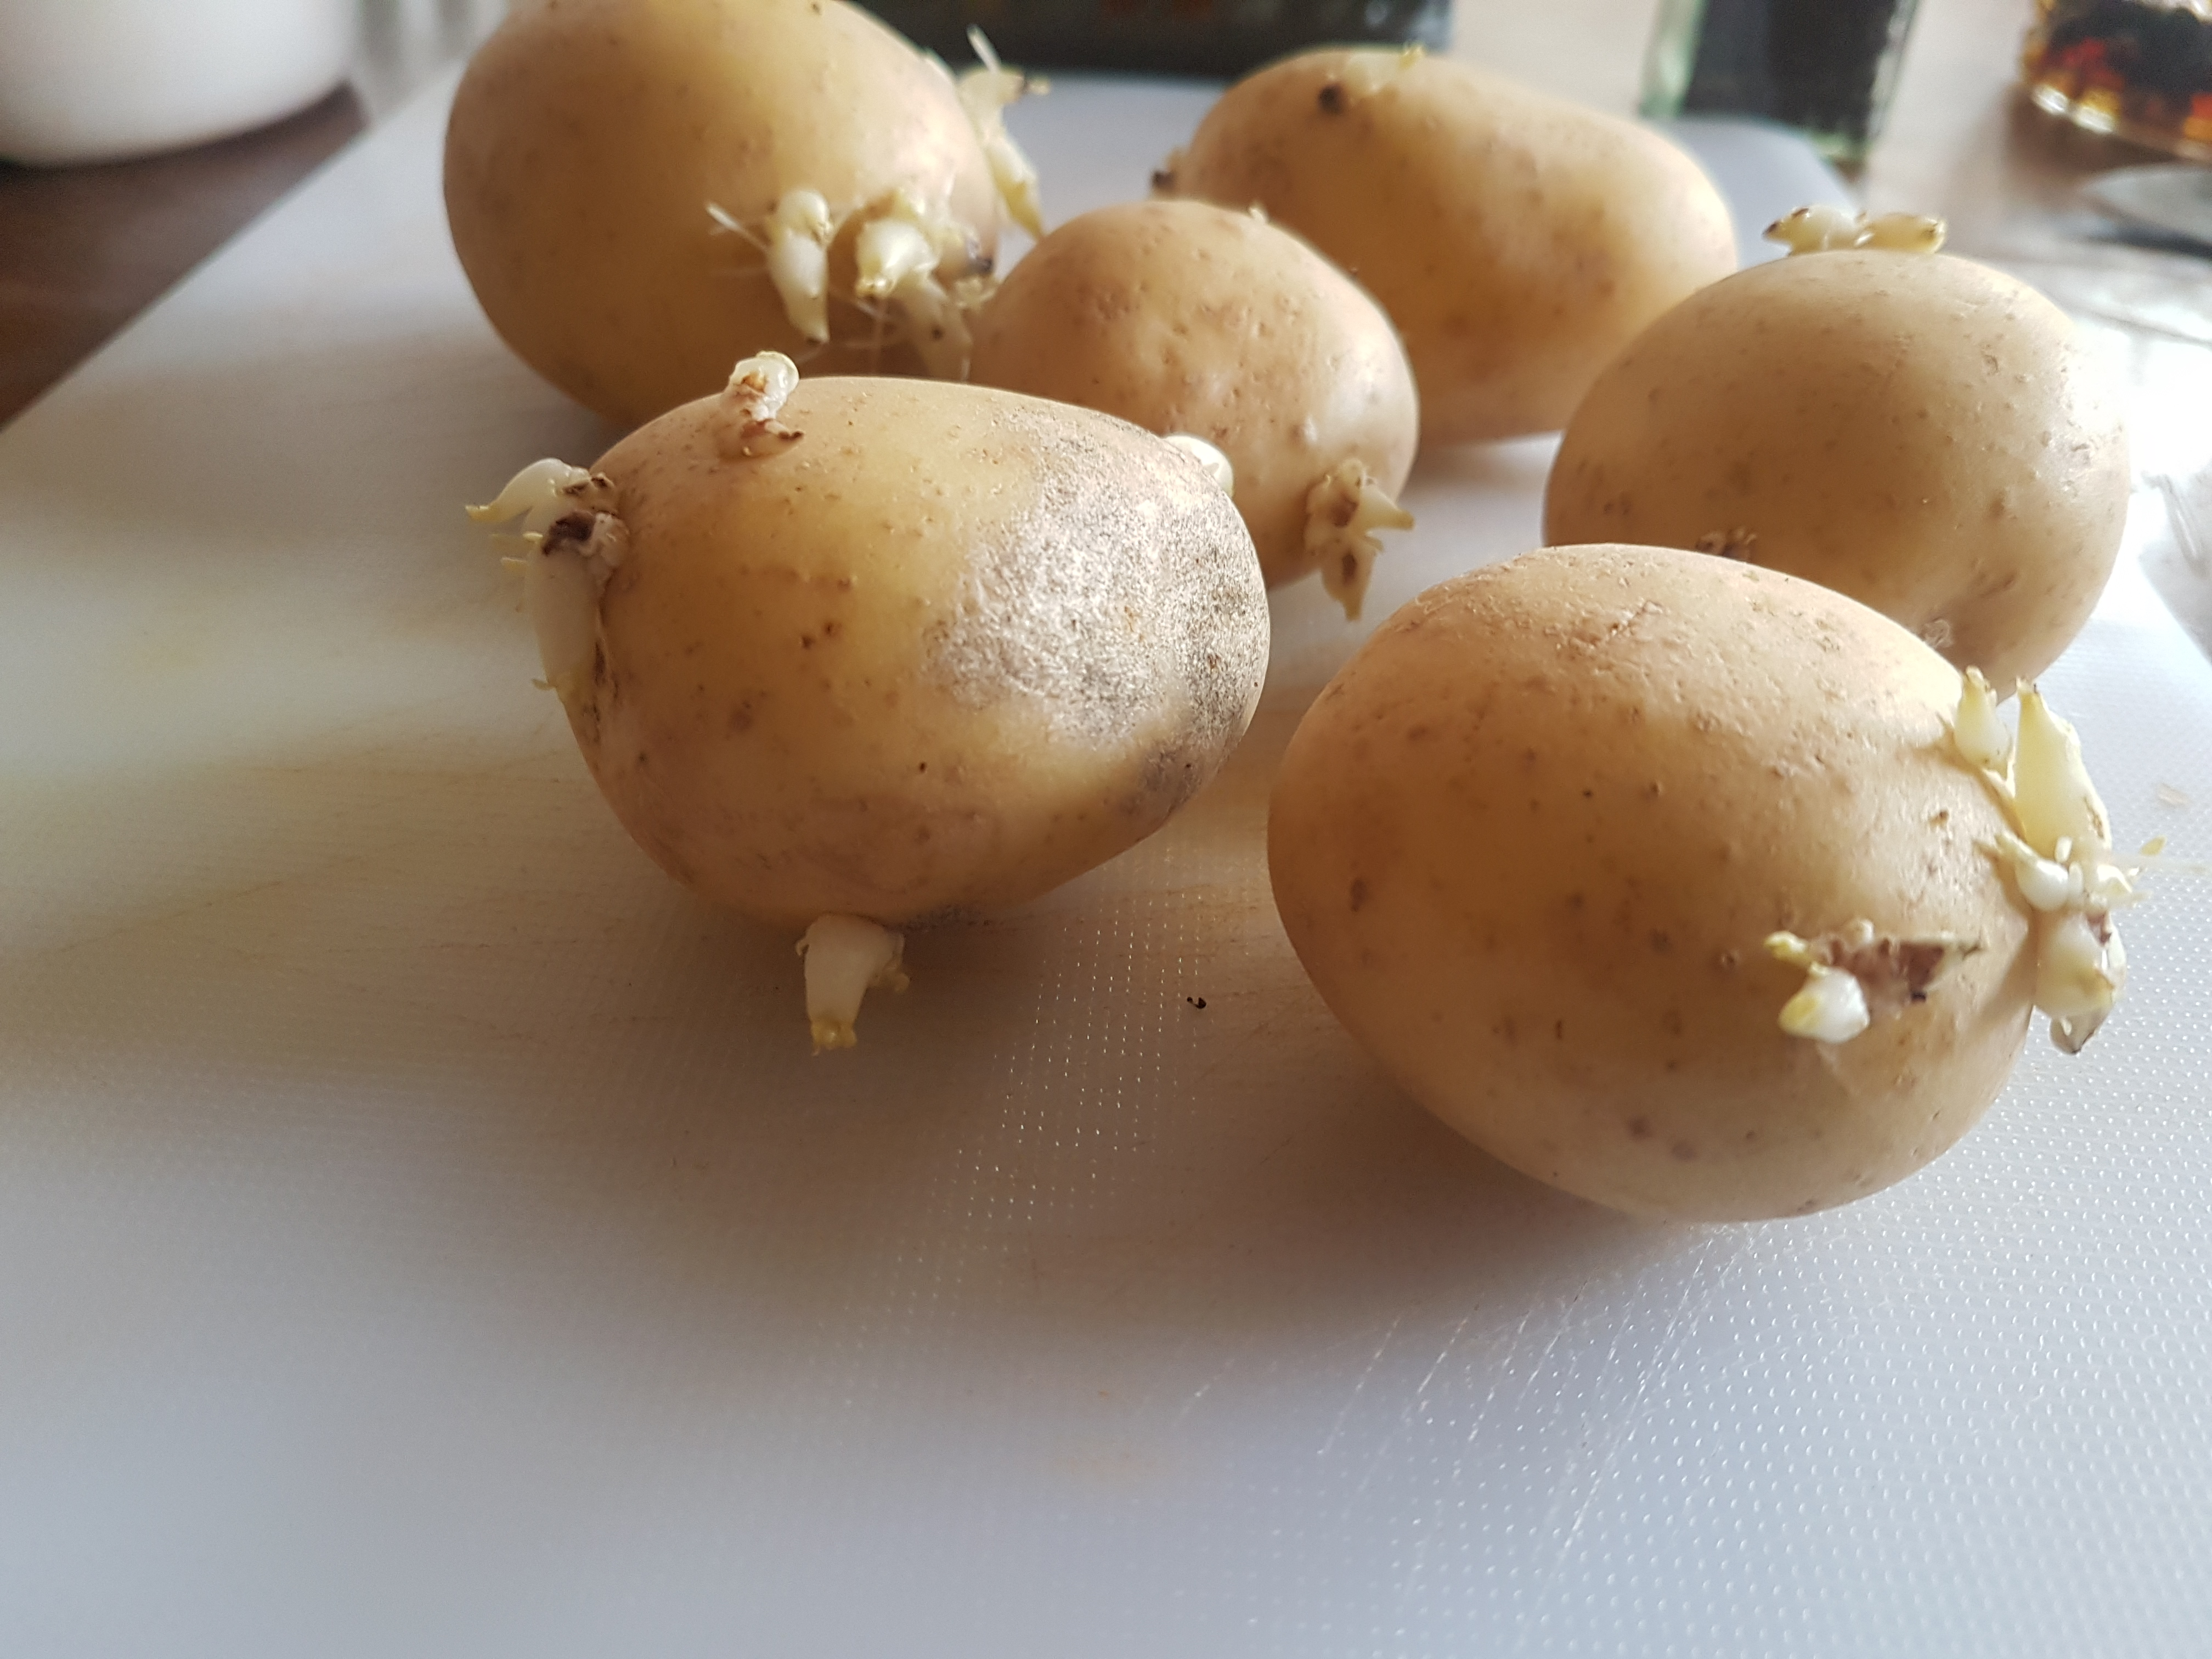Russet potato: (1270, 544, 2121, 1243), (538, 420, 1282, 1033), (1517, 270, 2165, 575), (460, 0, 968, 338), (1019, 214, 1439, 533), (1183, 47, 1752, 272)
